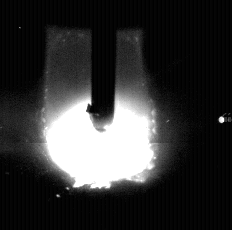arame: (91, 0, 116, 133)
poca: (43, 0, 155, 230)
